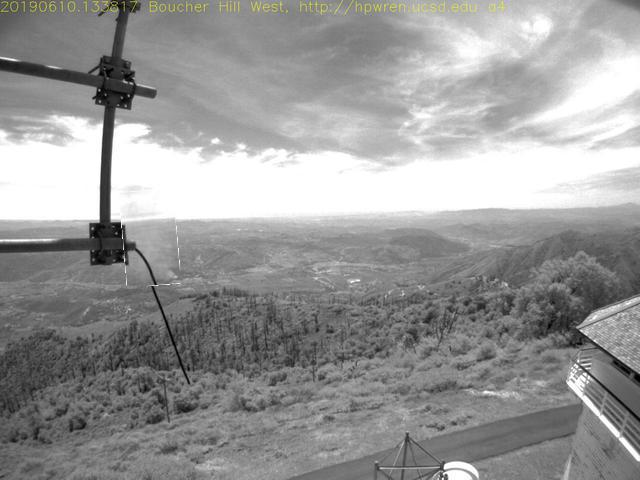smoke: (122, 190, 180, 287)
